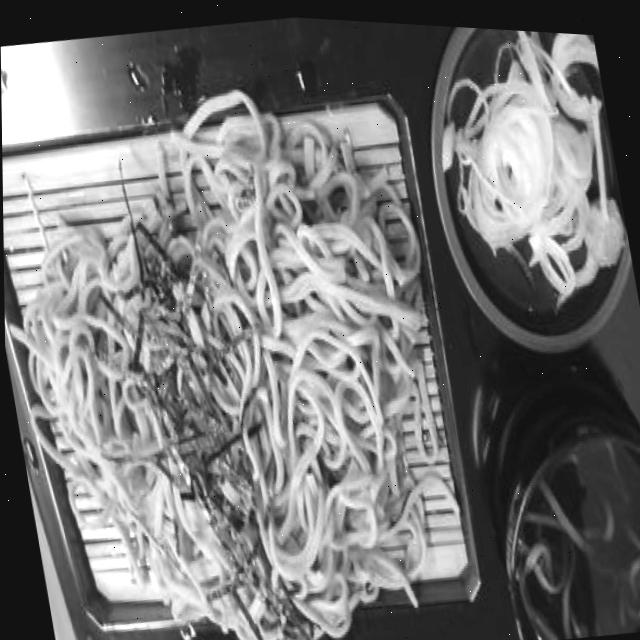面条主食: (28, 1, 469, 640)
